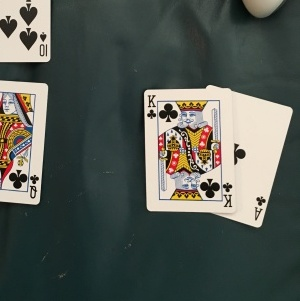card: (142, 89, 234, 212), (234, 96, 292, 229)
